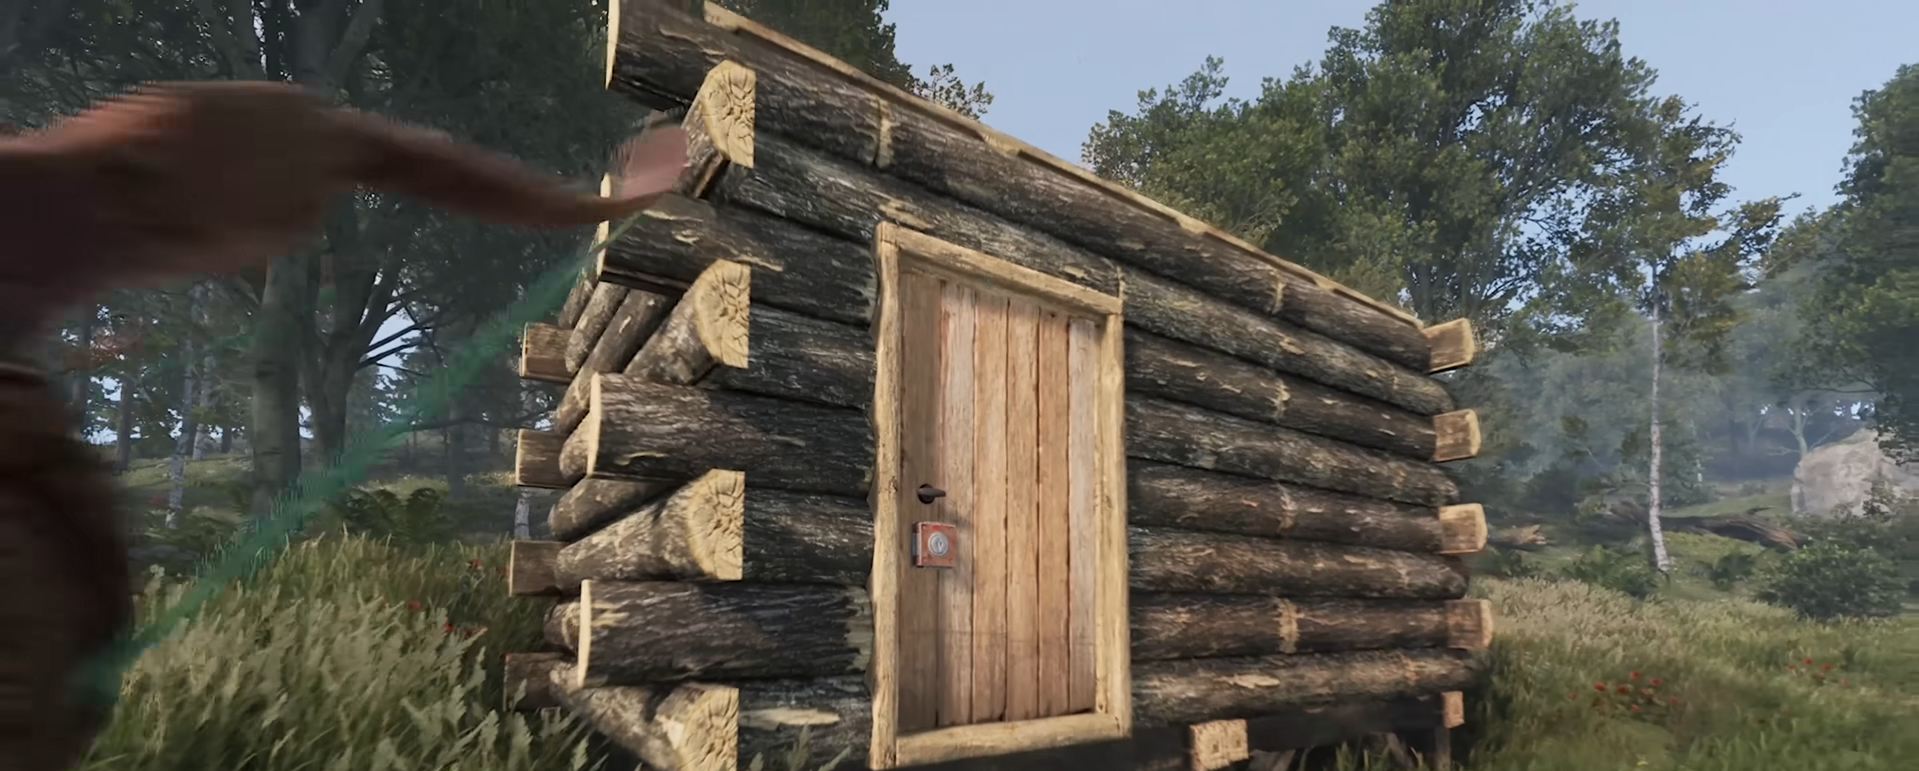tree: (1100, 1, 1735, 237), (245, 1, 408, 501), (1735, 35, 1919, 467), (1600, 103, 1716, 565), (1400, 174, 1519, 315), (1567, 501, 1831, 548)
